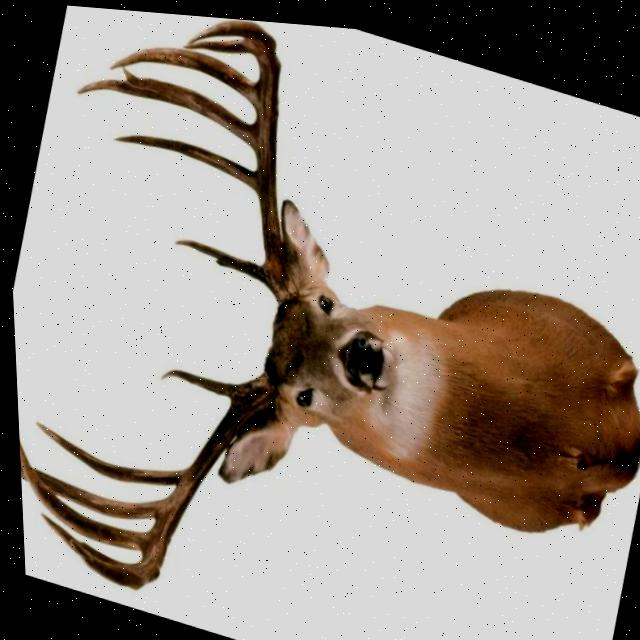E1: (121, 64, 141, 81)
L-F: (62, 367, 274, 588)
L-G1: (155, 366, 247, 404)
L-G2: (30, 421, 180, 484)
L-G4: (15, 443, 144, 555)
R-F: (185, 15, 295, 302)
R-G1: (171, 236, 267, 286)
R-G2: (110, 131, 257, 193)
R-G3: (74, 74, 255, 149)
R-G4: (108, 43, 257, 109)
